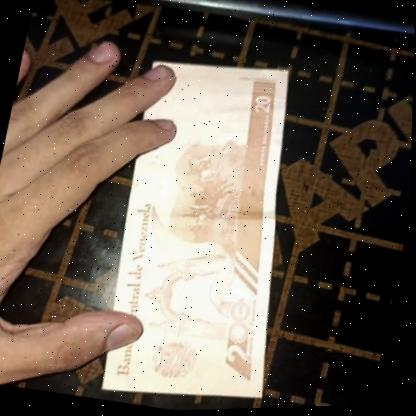twenty-back-vef: (88, 46, 328, 414)
